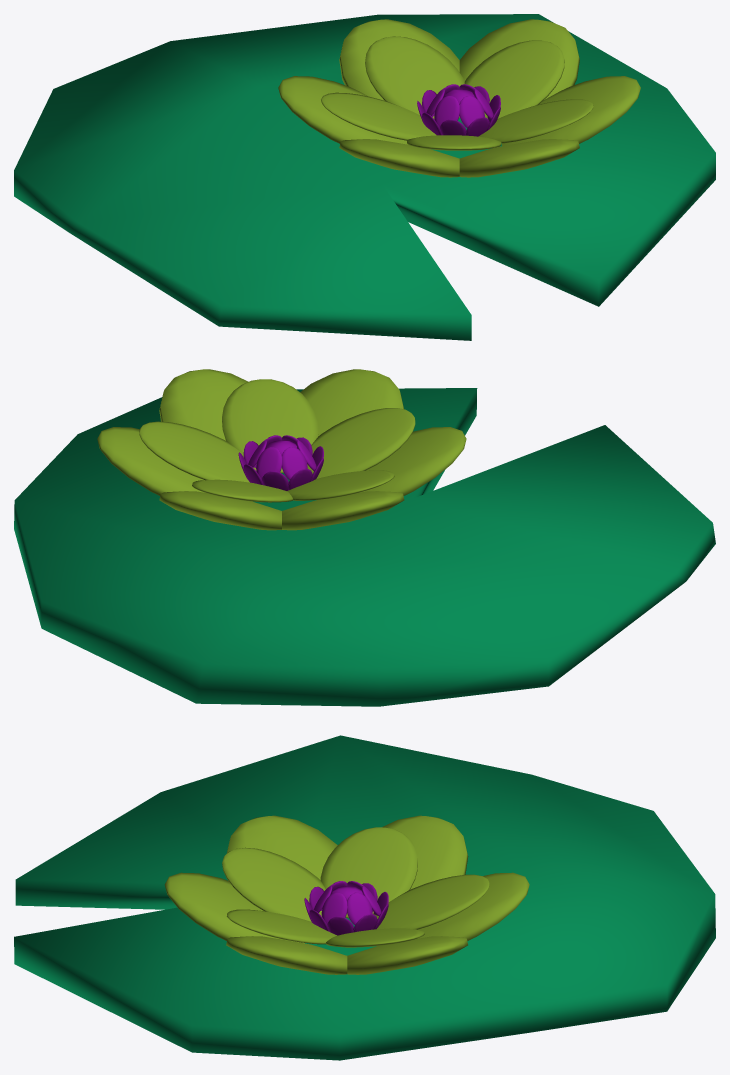
The model's file is lillypad.fbx.
3 renders of one model, top to bottom at view 1: azimuth 30°, elevation 25°; view 2: azimuth 150°, elevation 25°; view 3: azimuth 270°, elevation 25°, orthographic.
Visible parts, largest first — view 1: Plane; view 2: Plane; view 3: Plane.
Part boxes in pixels (box(x1,y1,x2,y2)): Plane: box(14, 14, 715, 340); Plane: box(14, 369, 715, 706); Plane: box(14, 735, 715, 1060).
Bounding box in the file's own units: 191 × 31.65 × 193.
